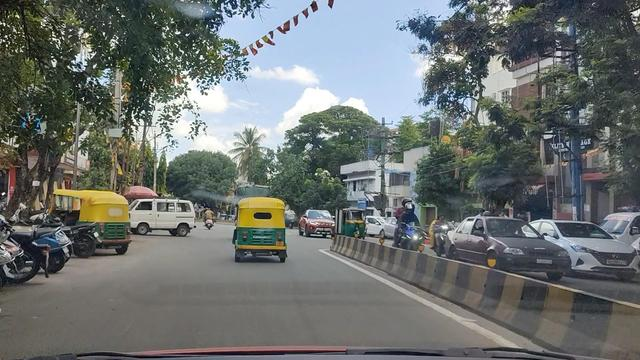LMV: (56, 191, 130, 257), (127, 200, 201, 241), (236, 199, 285, 258)
